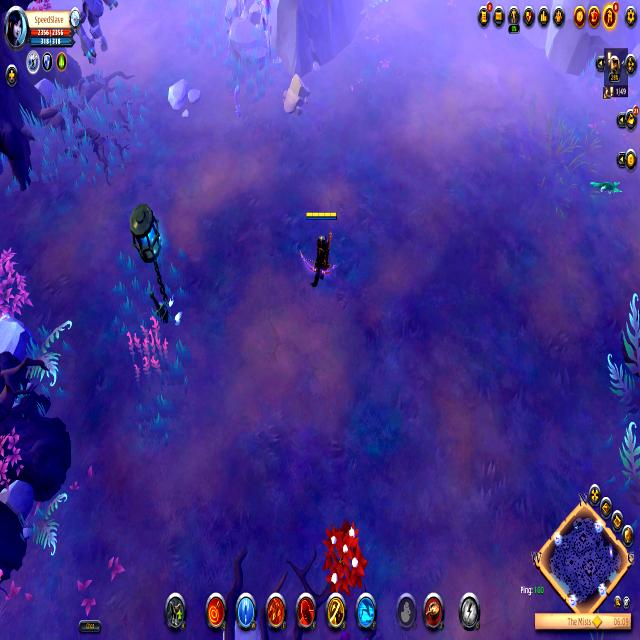10: (129, 201, 179, 336)
hide: (320, 515, 368, 596)
ore: (79, 0, 112, 66)
red: (300, 204, 341, 294)
